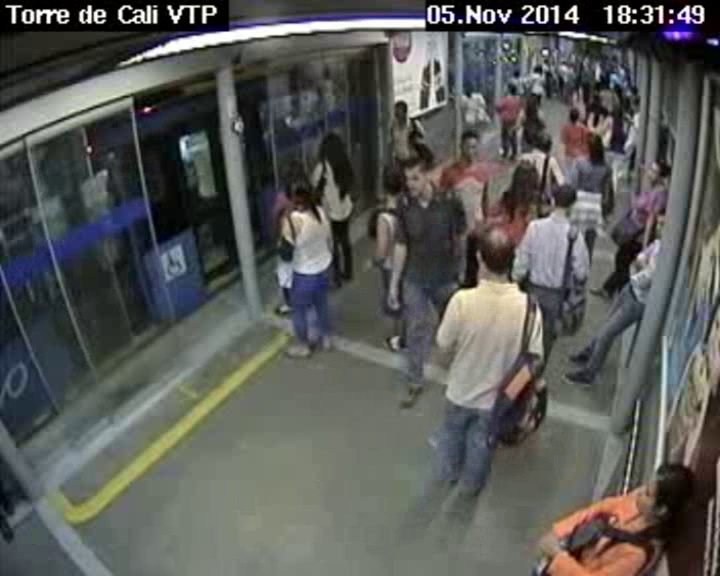person: (633, 448, 698, 529), (470, 219, 517, 289), (283, 171, 320, 223), (398, 151, 438, 199), (510, 154, 546, 201), (378, 161, 416, 201), (543, 179, 578, 222), (574, 129, 610, 163), (644, 157, 679, 190), (649, 206, 678, 243), (317, 126, 342, 166), (460, 129, 482, 172), (390, 94, 413, 128), (532, 128, 558, 152), (460, 81, 480, 99), (524, 94, 539, 113), (590, 97, 605, 116), (568, 108, 582, 125), (631, 98, 644, 115), (610, 103, 623, 119), (505, 84, 518, 98)
